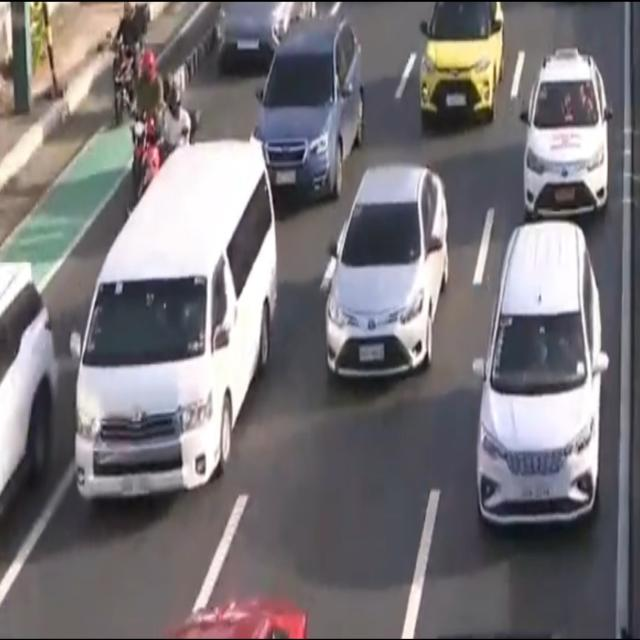SUV: (478, 223, 606, 541), (251, 21, 363, 198), (0, 259, 59, 527)
Sedan: (324, 166, 449, 384), (521, 46, 610, 218), (419, 0, 506, 122)
Van: (68, 140, 277, 507)
